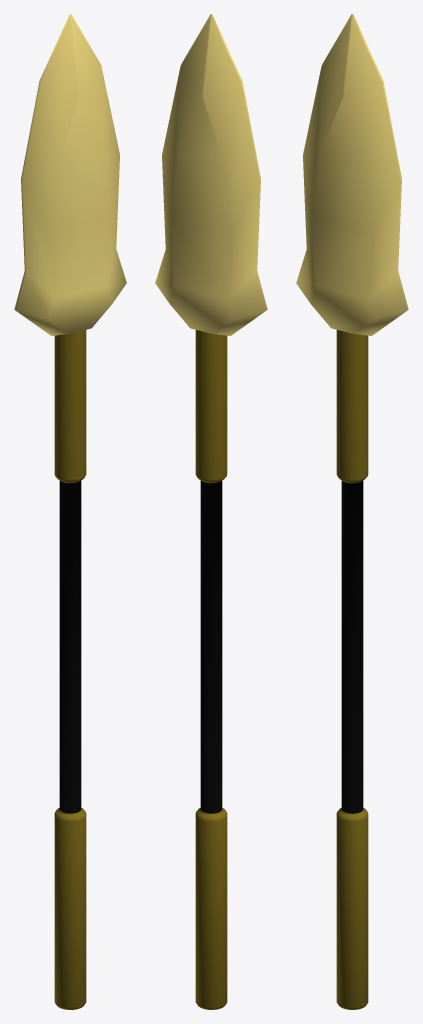
The model's file is Spear_Gold.fbx.
The picture shows the model from 3 angles, left to right: view 1: azimuth 30°, elevation 25°; view 2: azimuth 150°, elevation 25°; view 3: azimuth 330°, elevation 25°; orthographic projection.
Visible parts, largest first — view 1: Spear_Gold; view 2: Spear_Gold; view 3: Spear_Gold.
Boxes of the visible parts, x1,y1,x2,y2 form: Spear_Gold: (14,14,126,1009); Spear_Gold: (155,14,267,1009); Spear_Gold: (296,14,408,1009).
Size of the model in its own units: 203 by 1715 by 63.47.
